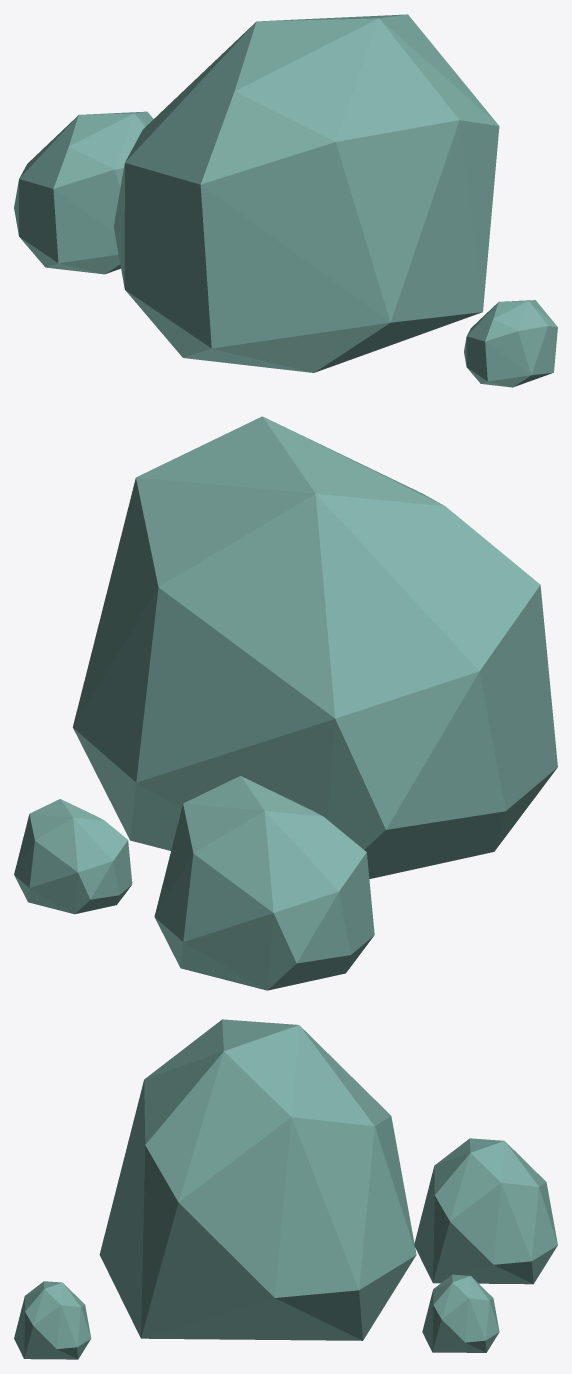
Rendered from ROCKS_1.fbx.
3 renders of one model, top to bottom at view 1: azimuth 30°, elevation 25°; view 2: azimuth 150°, elevation 25°; view 3: azimuth 270°, elevation 25°, orthographic. The views are drawn at different scales.
Parts seen in each view (by area): view 1: ROCKS; view 2: ROCKS; view 3: ROCKS.
Part boxes in pixels (x1,y1,x2,y2): ROCKS: (14, 14, 557, 387); ROCKS: (14, 416, 557, 990); ROCKS: (14, 1019, 557, 1359).
Size of the model in its own units: 251 by 214 by 376.
